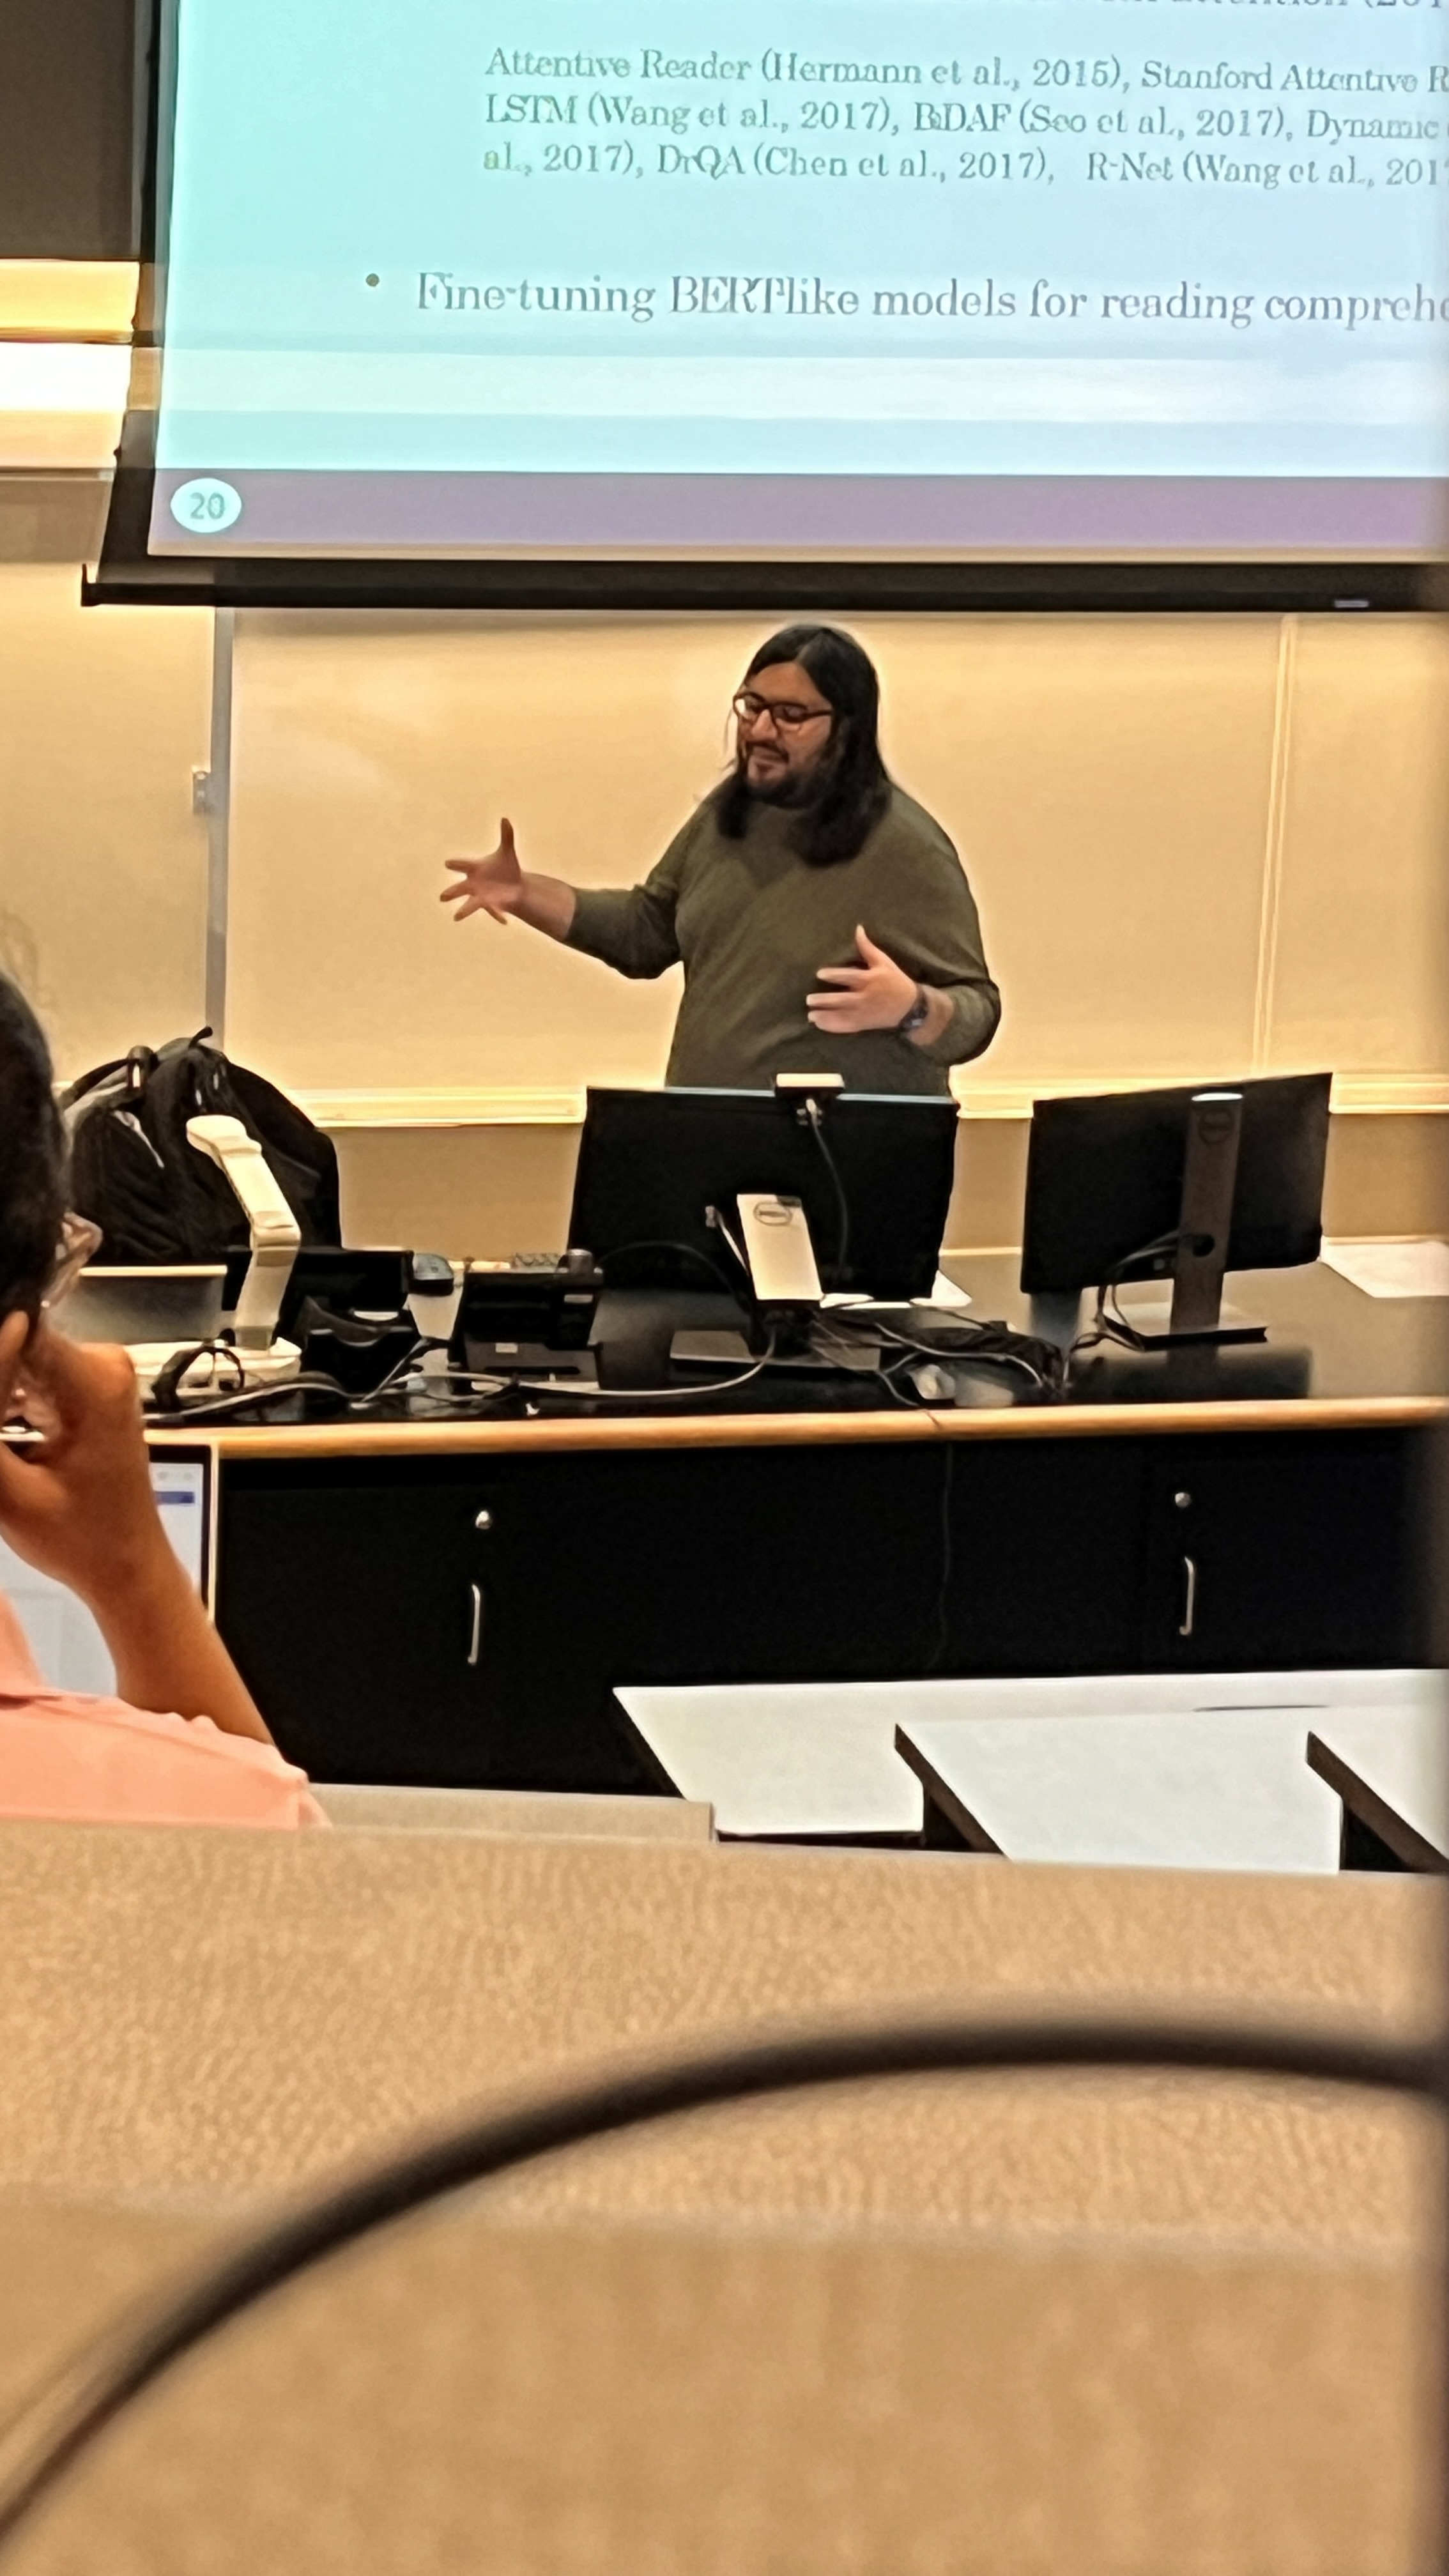Staff: (612, 556, 1019, 1111)
